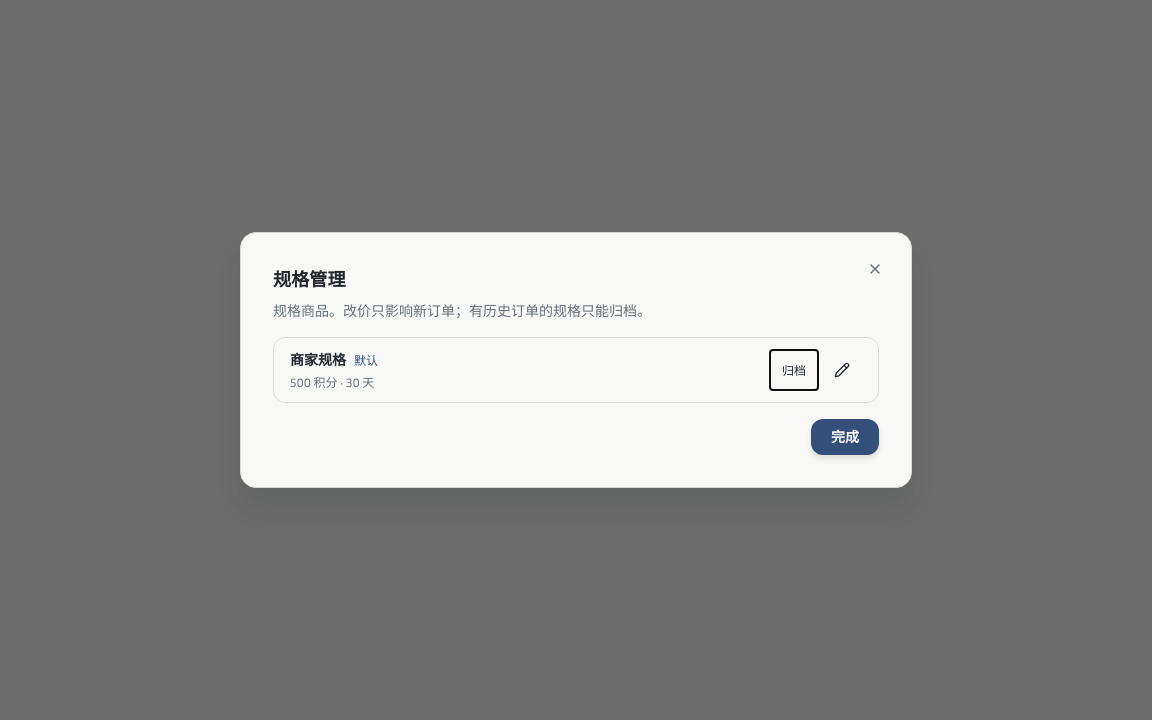
AdminOfferManagerModal › does not render delivery-mode controls for merchant-owned product edit
Click the button with test id "admin-offer-edit-1": [842, 370] box x1=822 y1=350 x2=862 y2=390
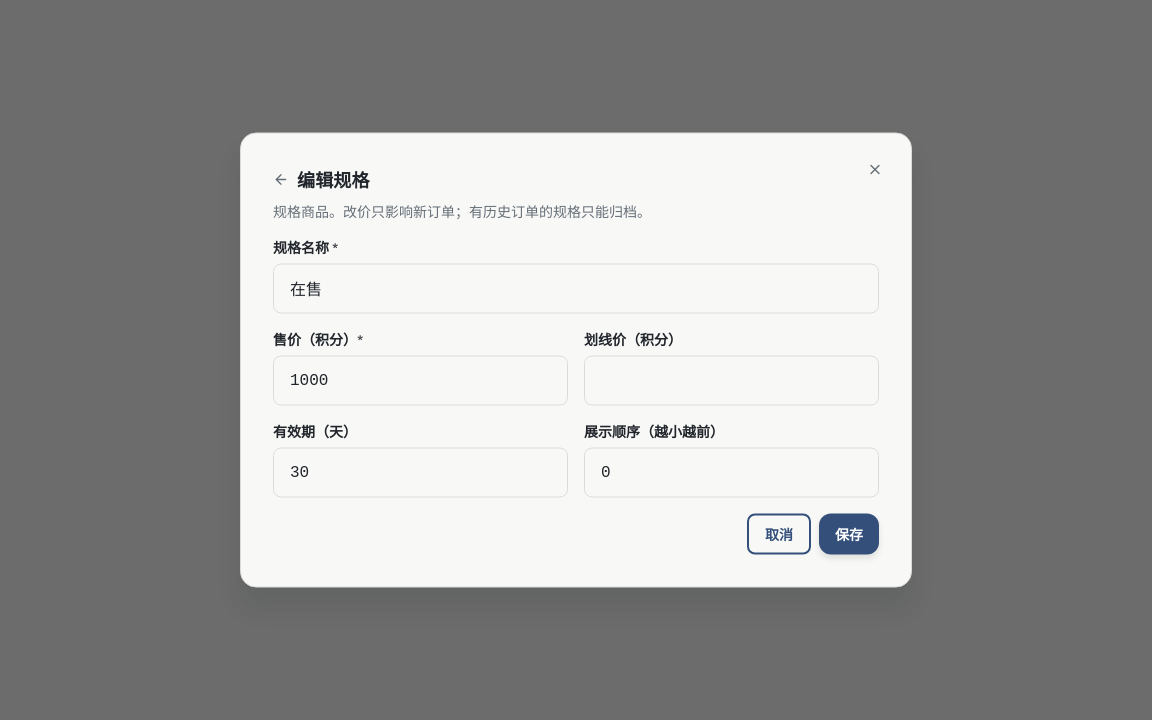
Check: the button with test id "admin-offer-form-save" is enabled, box x1=819 y1=514 x2=879 y2=554
